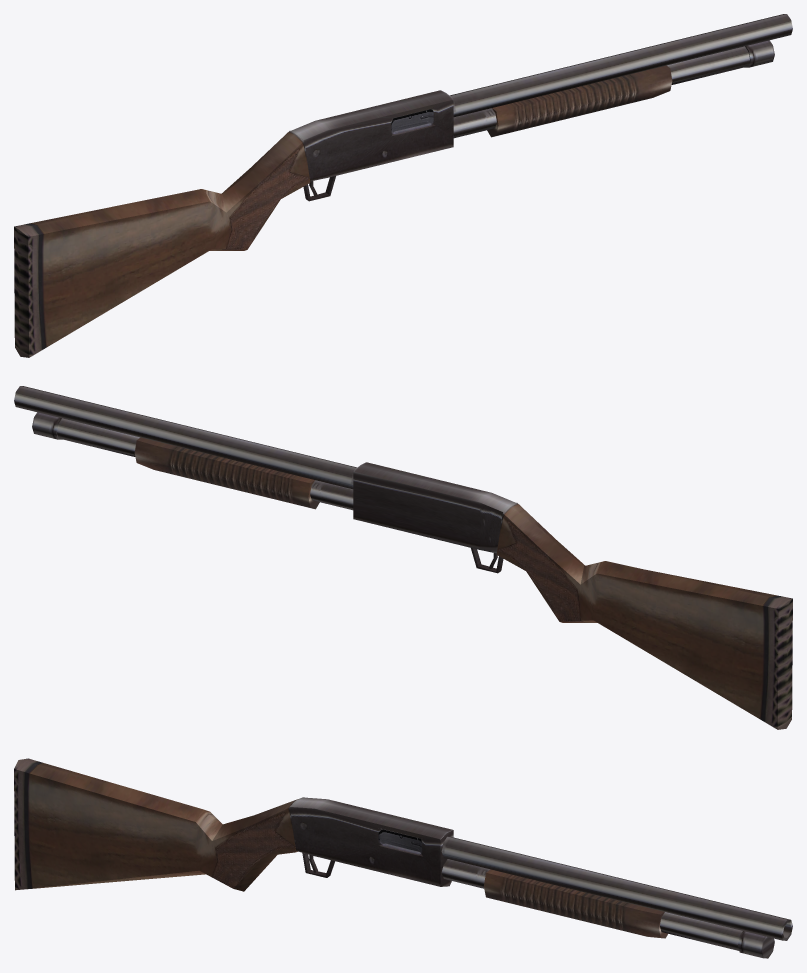
Rendered from PumpShotgun2.fbx.
The picture shows the model from 3 angles, top to bottom: view 1: azimuth 30°, elevation 25°; view 2: azimuth 150°, elevation 25°; view 3: azimuth 330°, elevation 25°; orthographic projection.
Visible parts, largest first — view 1: Cube, Cube.001; view 2: Cube, Cube.001; view 3: Cube, Cube.001.
Boxes of the visible parts, x1,y1,x2,y2 form: Cube: (14,14,792,357); Cube.001: (487,65,672,137); Cube: (14,386,792,729); Cube.001: (134,437,319,509); Cube: (14,758,792,958); Cube.001: (484,869,667,938).
Size of the model in its own units: 6597 by 1311 by 219.
